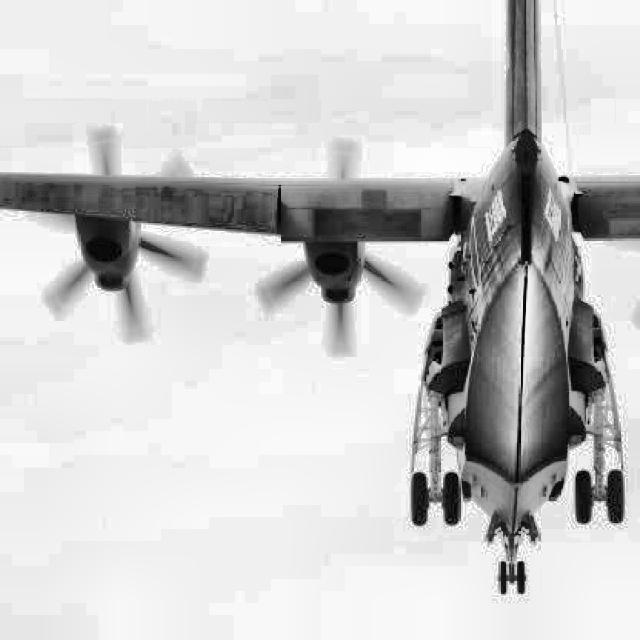US2: (0, 0, 640, 595)
